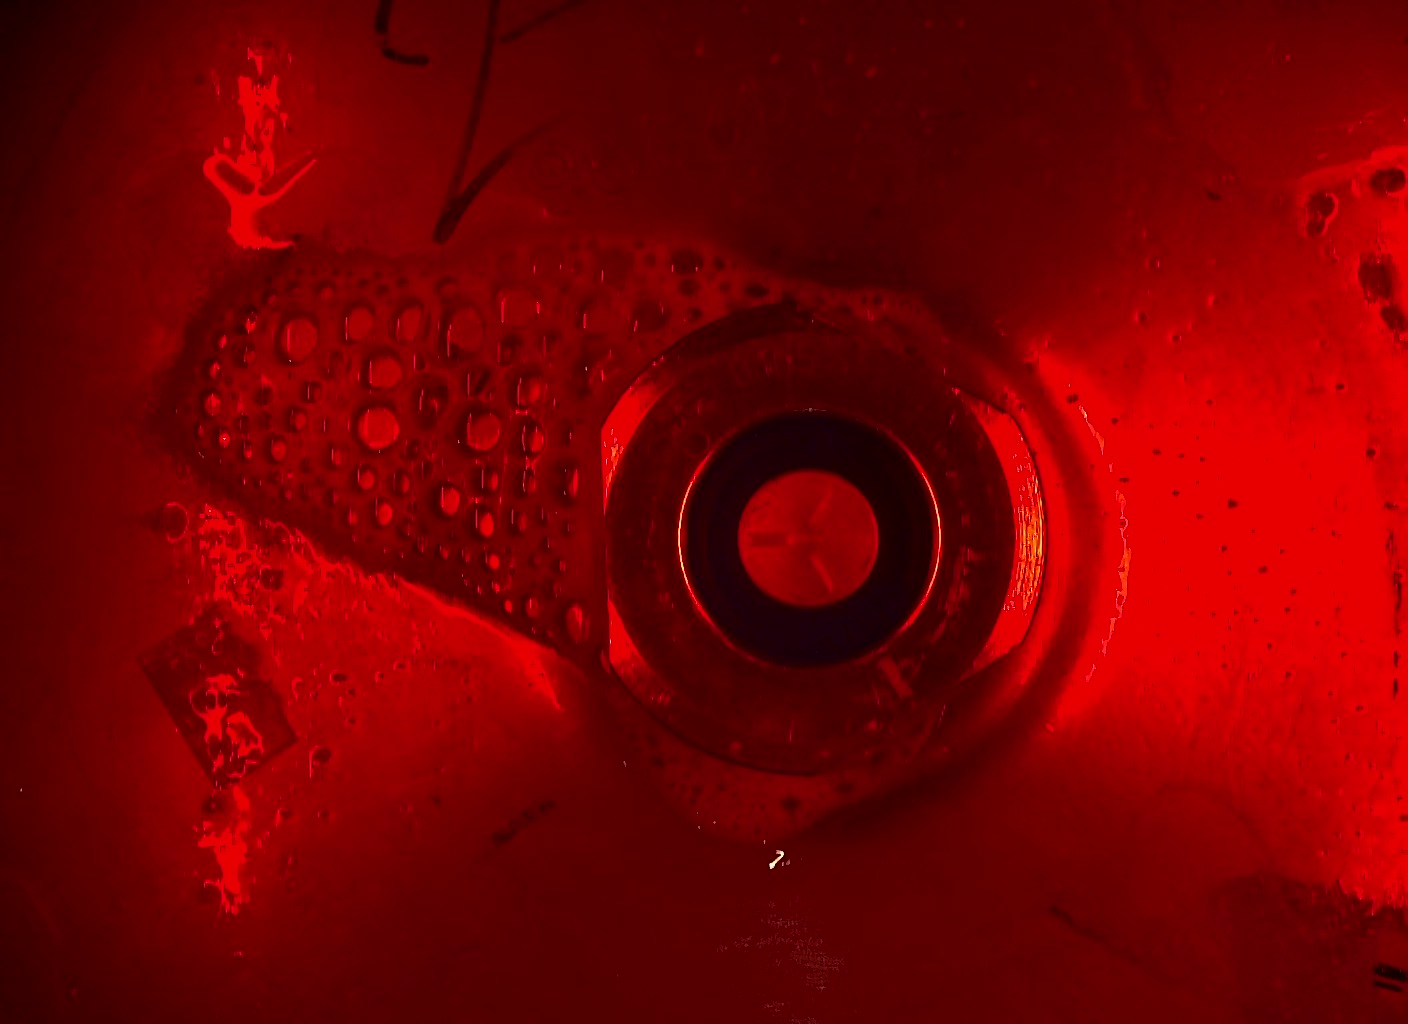pena: (146, 232, 619, 671), (592, 184, 1031, 397), (568, 662, 975, 864)
